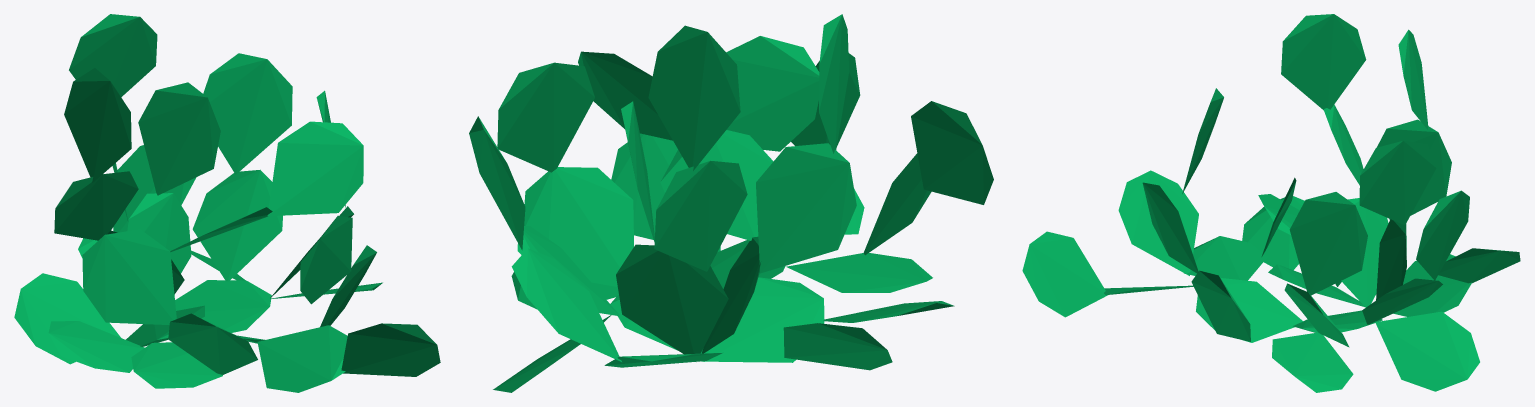
The model's file is PricklyPearCactus_LOD2.fbx.
The picture shows the model from 3 angles, left to right: view 1: azimuth 30°, elevation 25°; view 2: azimuth 150°, elevation 25°; view 3: azimuth 270°, elevation 25°; orthographic projection. The views are drawn at different scales.
Visible parts, largest first — view 1: PricklyPearCactus_LOD2; view 2: PricklyPearCactus_LOD2; view 3: PricklyPearCactus_LOD2.
Boxes of the visible parts, box(x1,y1,x2,y2) form: PricklyPearCactus_LOD2: box(14, 14, 440, 392); PricklyPearCactus_LOD2: box(469, 14, 993, 392); PricklyPearCactus_LOD2: box(1022, 14, 1520, 392).
Bounding box in the file's own units: 174 × 113 × 128.
